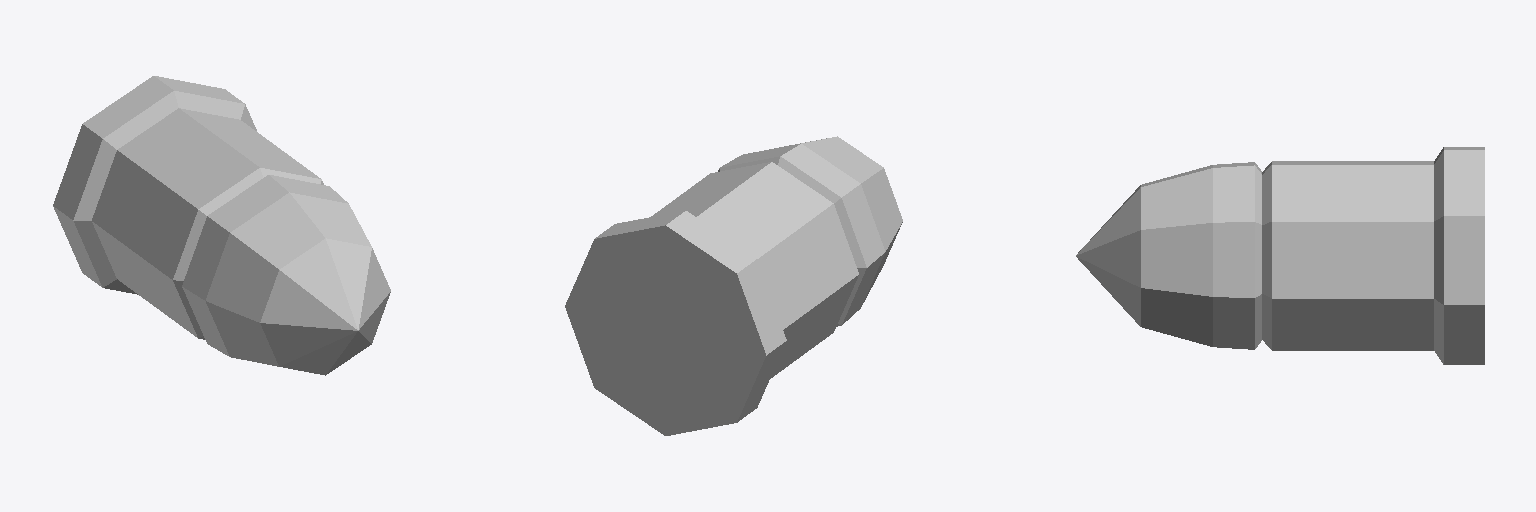
Rendered from bullet.obj.
The picture shows the model from 3 angles: view 1: azimuth 30°, elevation 25°; view 2: azimuth 150°, elevation 25°; view 3: azimuth 270°, elevation 25°; orthographic projection.
Visible parts, largest first — view 1: Shell_Untitled; view 2: Shell_Untitled; view 3: Shell_Untitled.
Part boxes in pixels (left/top/right/bottom): Shell_Untitled: left=53, top=76, right=390, bottom=375; Shell_Untitled: left=565, top=136, right=902, bottom=435; Shell_Untitled: left=1076, top=147, right=1484, bottom=364.
Size of the model in its own units: 0.2987 by 0.2987 by 0.5253.